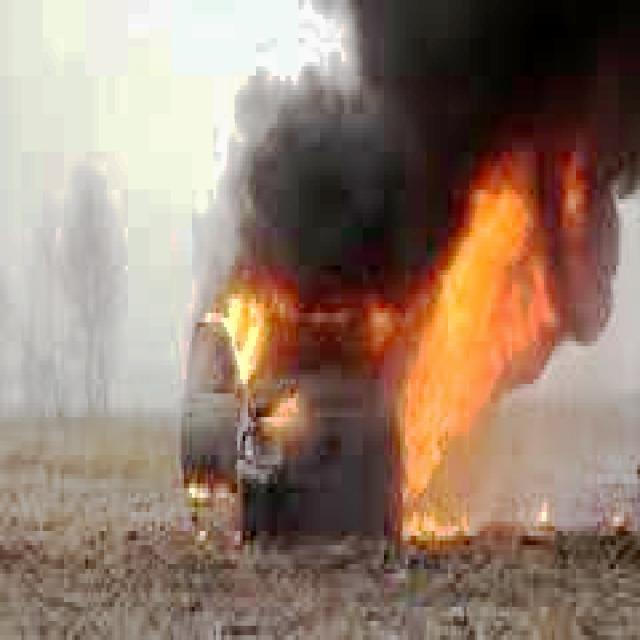api: (372, 158, 617, 528), (204, 238, 318, 437)
